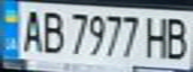7: (63, 9, 90, 56), (121, 12, 145, 59), (103, 11, 124, 57)
9: (84, 10, 106, 57)
A: (15, 6, 45, 53)
B: (160, 14, 193, 61), (36, 7, 66, 54)
H: (142, 13, 172, 60)
